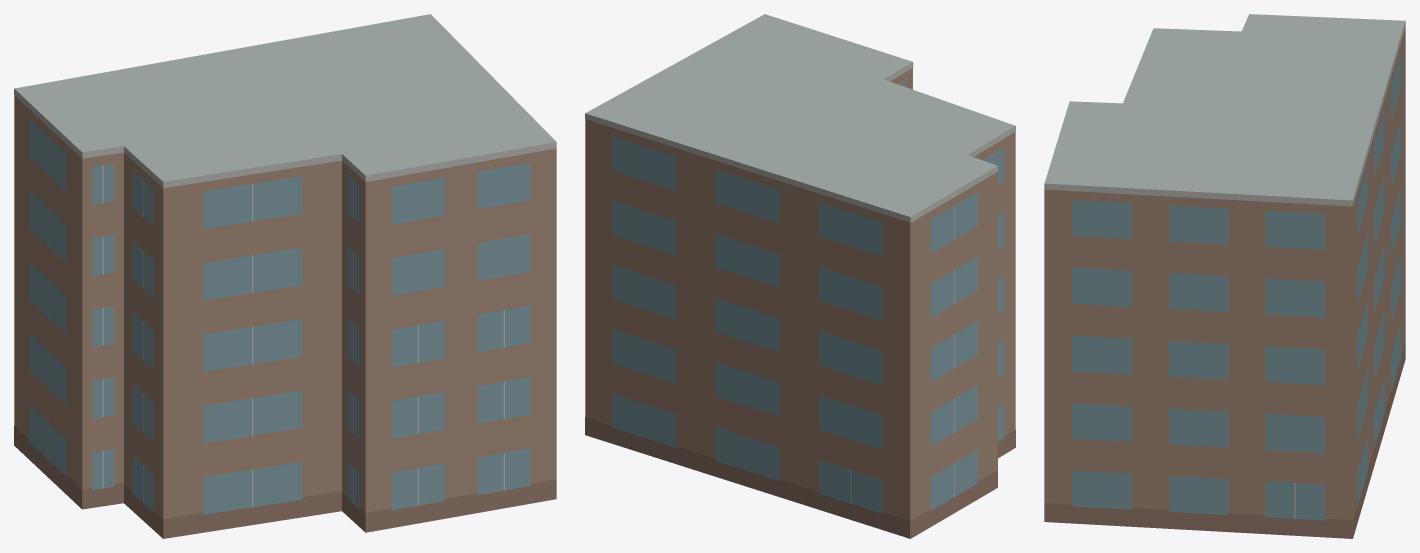
The model's file is survey-upis-32745215.glb.
The picture shows the model from 3 angles, left to right: view 1: azimuth 30°, elevation 25°; view 2: azimuth 150°, elevation 25°; view 3: azimuth 270°, elevation 25°; orthographic projection. The views are drawn at different scales.
Visible parts, largest first — view 1: survey-upis-32745215.tmp; view 2: survey-upis-32745215.tmp; view 3: survey-upis-32745215.tmp.
Boxes of the visible parts, left/top/right/bottom form: survey-upis-32745215.tmp: left=14, top=14, right=556, bottom=538; survey-upis-32745215.tmp: left=585, top=14, right=1015, bottom=538; survey-upis-32745215.tmp: left=1044, top=14, right=1405, bottom=538.
Bounding box in the file's own units: 16.14 × 13.65 × 13.22.
